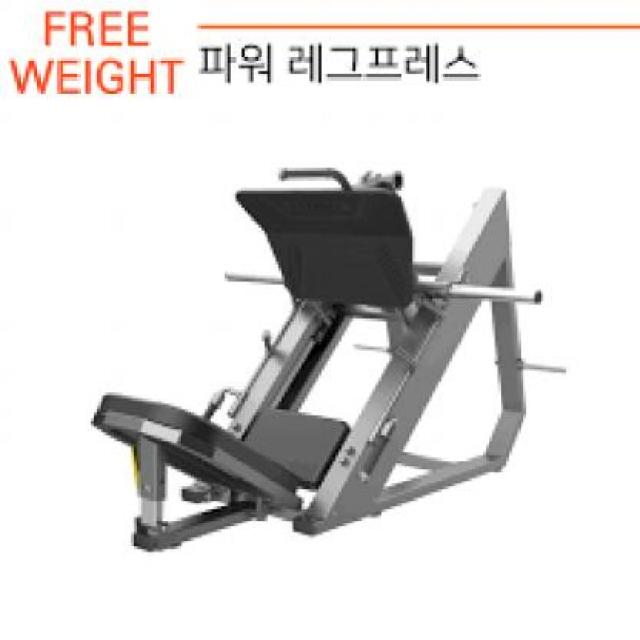leg press: (88, 142, 574, 542)
